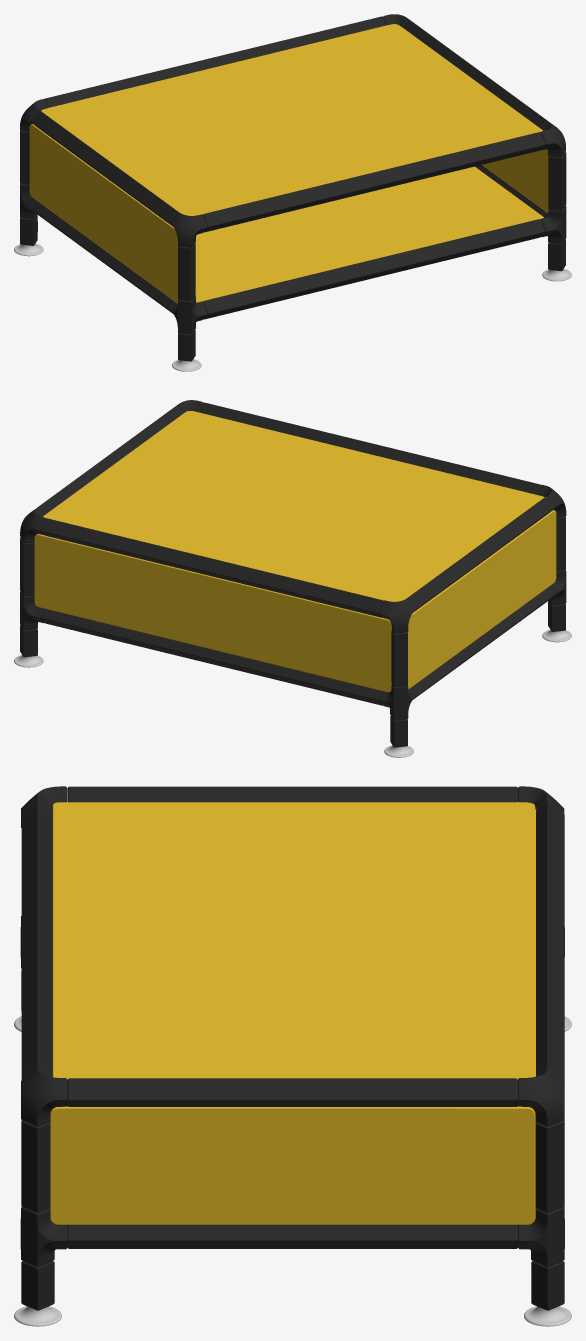
The picture shows the model from 3 angles, top to bottom: view 1: azimuth 30°, elevation 25°; view 2: azimuth 150°, elevation 25°; view 3: azimuth 270°, elevation 25°; orthographic projection. The views are drawn at different scales.
Parts seen in each view (by area): view 1: 523x374x79; view 2: 523x374x79; view 3: 523x374x79.
Boxes of the visible parts, x1=… form: 523x374x79: x1=14, y1=14, x2=571, y2=371; 523x374x79: x1=14, y1=400, x2=571, y2=757; 523x374x79: x1=14, y1=786, x2=571, y2=1326.
Bounding box in the file's own units: 0.6129 × 0.2183 × 0.4632.
